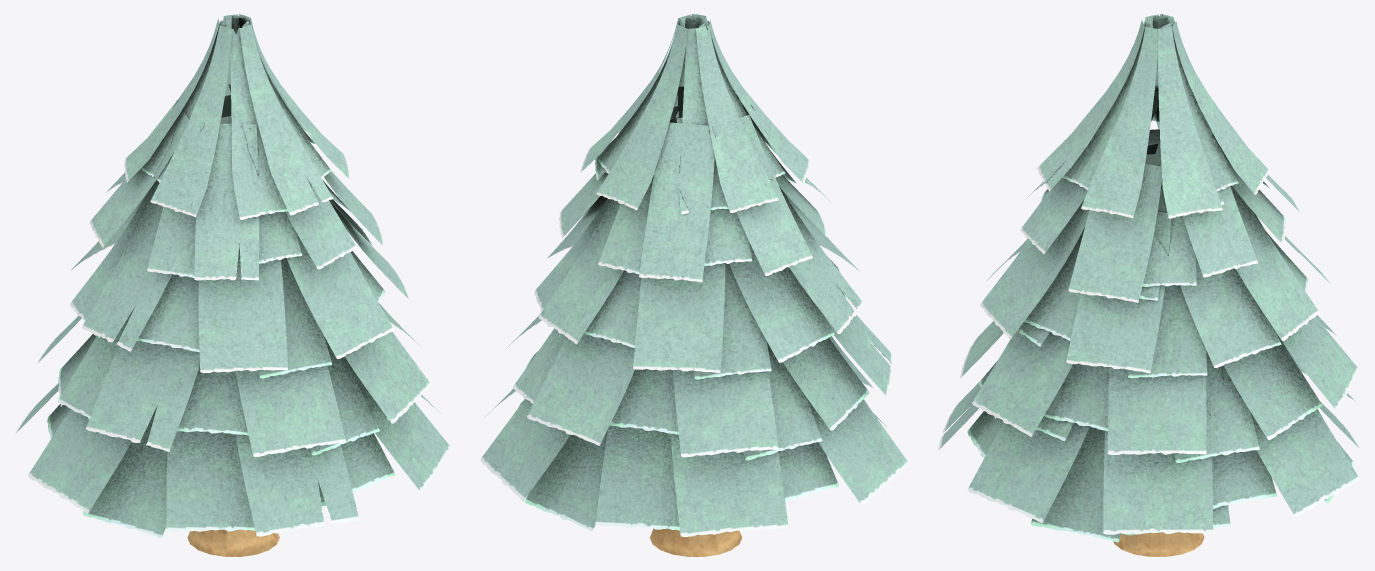
Rendered from tree.glb.
The picture shows the model from 3 angles, left to right: view 1: azimuth 30°, elevation 25°; view 2: azimuth 150°, elevation 25°; view 3: azimuth 270°, elevation 25°; orthographic projection.
Visible parts, largest first — view 1: Plane.002; view 2: Plane.002; view 3: Plane.002.
Part boxes in pixels (bbox=[...]): Plane.002: bbox=[15, 14, 451, 556]; Plane.002: bbox=[480, 14, 909, 556]; Plane.002: bbox=[938, 14, 1359, 556].
Size of the model in its own units: 2.83 by 3.74 by 2.77.
3 materials, 3 textured.
